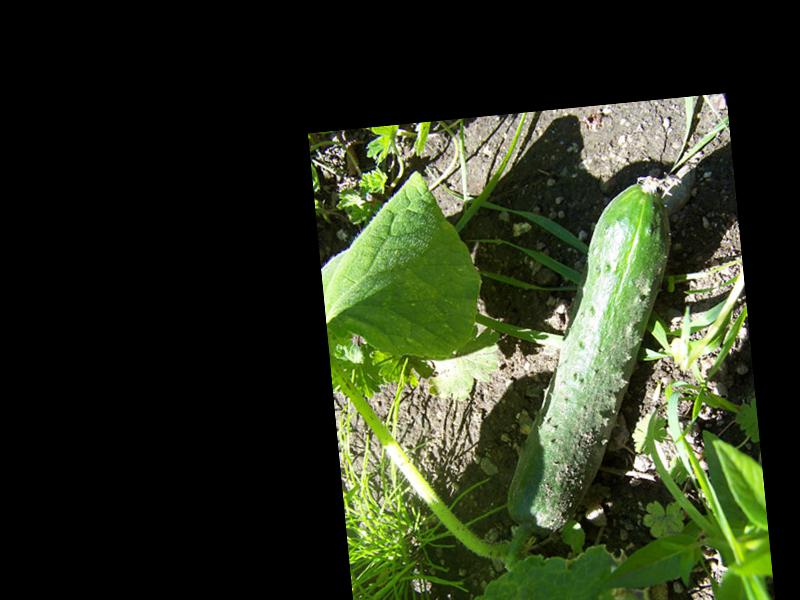Cucumber: (476, 175, 699, 540)
